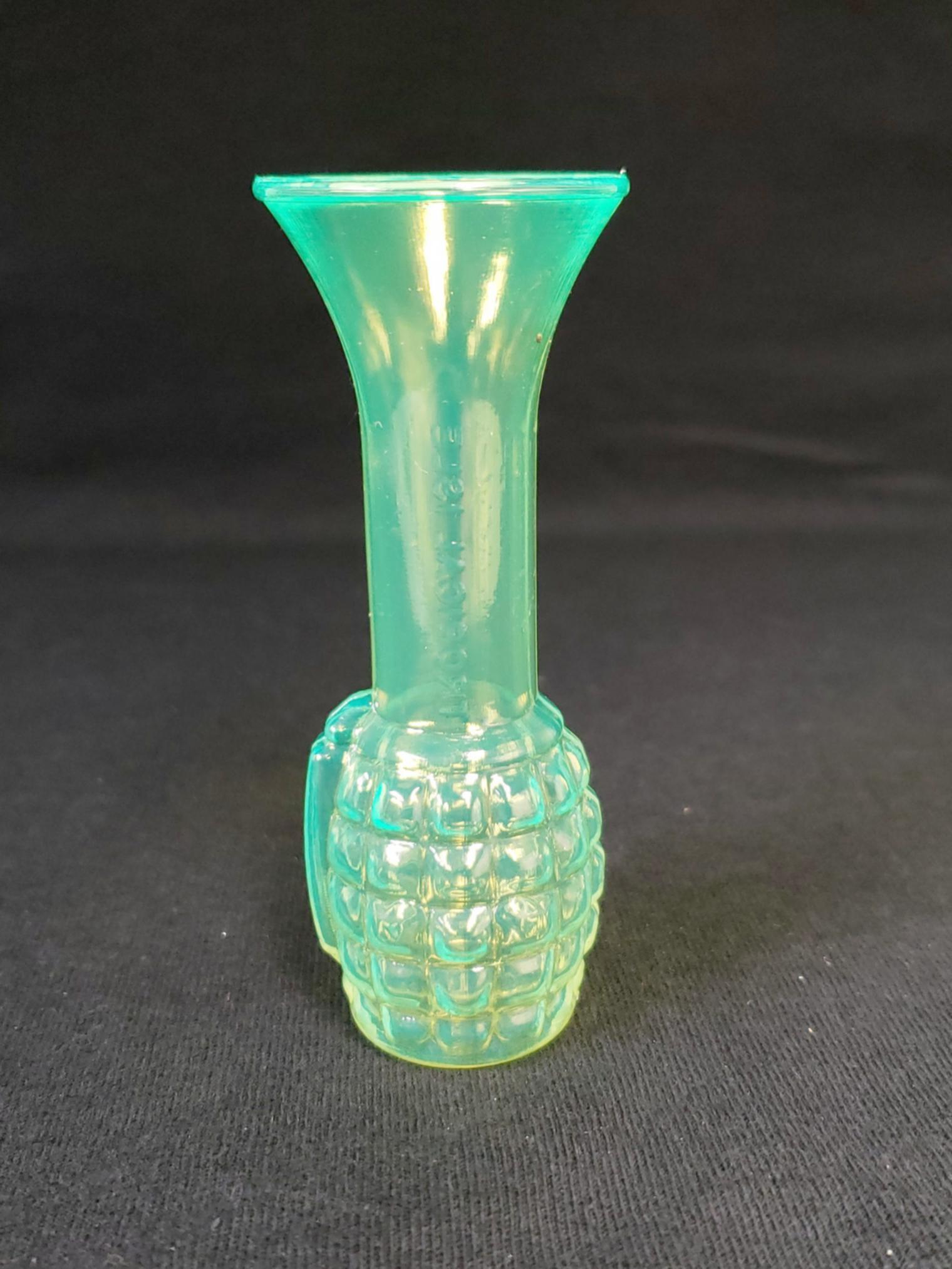Grenade: (308, 690, 606, 1063)
